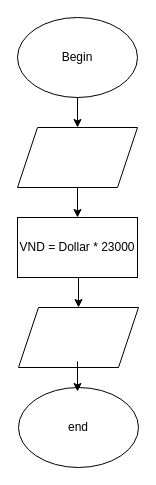
The diagram is 156 pixels wide and 485 high, and some of its shapes have lost their labels. The shapes that lost their labels are listed below. From the top down, each one's box as (x1, y1, x2, y2) in pixels, then its label:
(16, 126, 138, 188): rate=23000 input Dollar
(18, 306, 138, 368): Display VND
